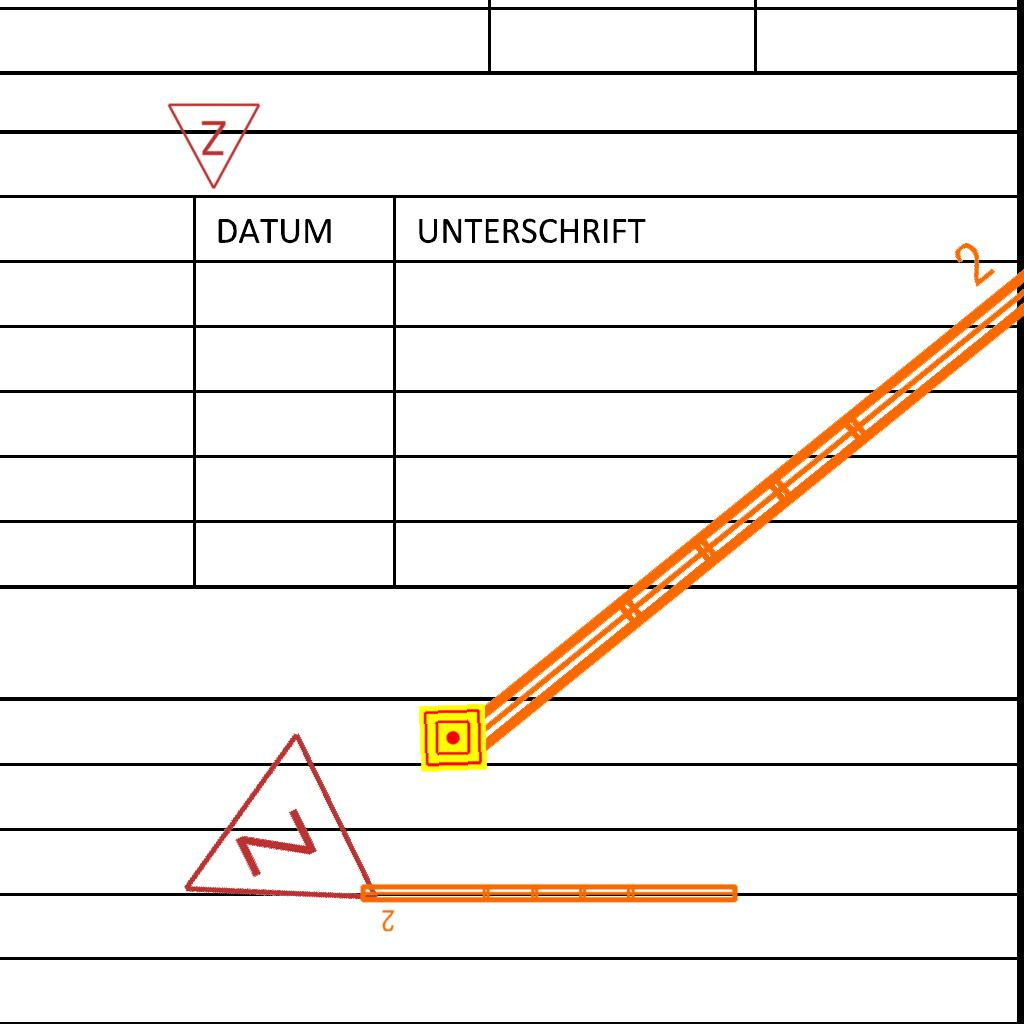Ambulanz_Pendelleuchte_LED: (405, 201, 1024, 777), (356, 878, 743, 934)
NAM-Nichtautomatischer_Melder: (418, 703, 488, 773)
Zimmersignalleuchte: (130, 722, 396, 986), (166, 96, 264, 196)
